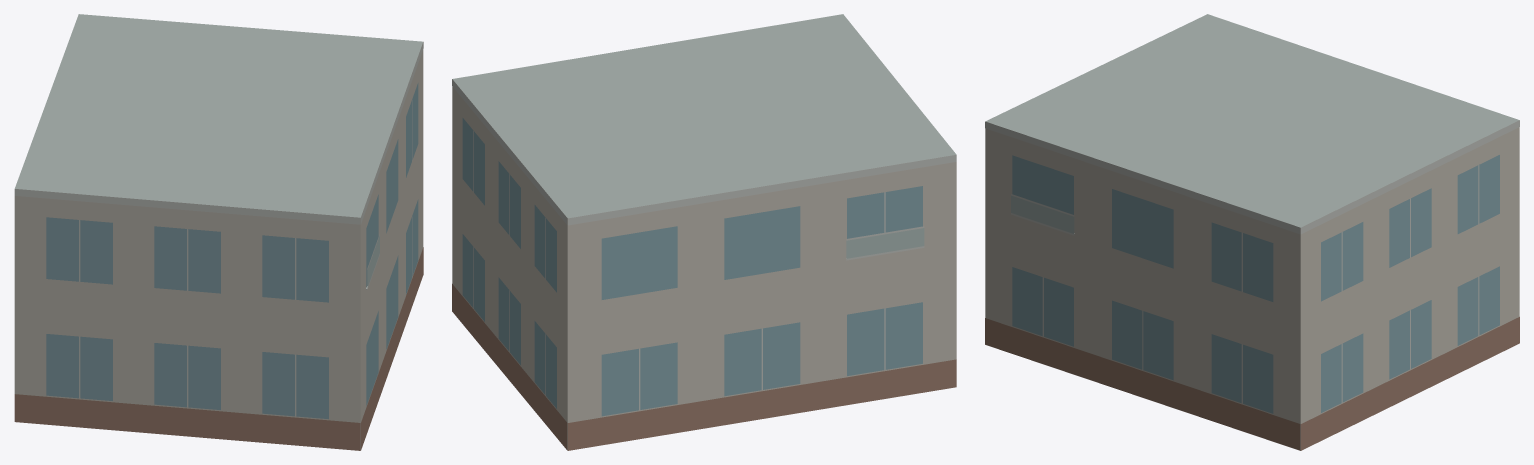
The model's file is survey-upis-32839575.glb.
The picture shows the model from 3 angles, left to right: view 1: azimuth 30°, elevation 25°; view 2: azimuth 150°, elevation 25°; view 3: azimuth 270°, elevation 25°; orthographic projection. The views are drawn at different scales.
Visible parts, largest first — view 1: survey-upis-32839575.tmp; view 2: survey-upis-32839575.tmp; view 3: survey-upis-32839575.tmp.
Boxes of the visible parts, box(x1,y1,x2,y2) form: survey-upis-32839575.tmp: box(14, 14, 423, 450); survey-upis-32839575.tmp: box(452, 14, 956, 450); survey-upis-32839575.tmp: box(985, 14, 1519, 450).
Size of the model in its own units: 16.41 by 7.99 by 17.35.
